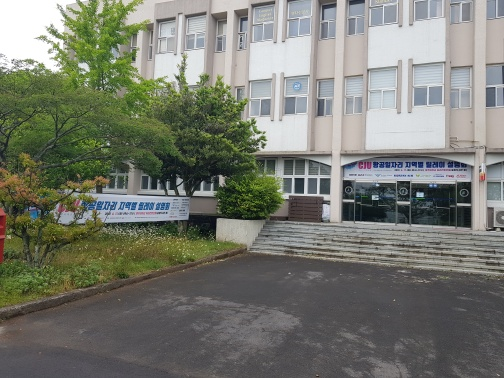Main Building of University: (95, 6, 504, 262)
